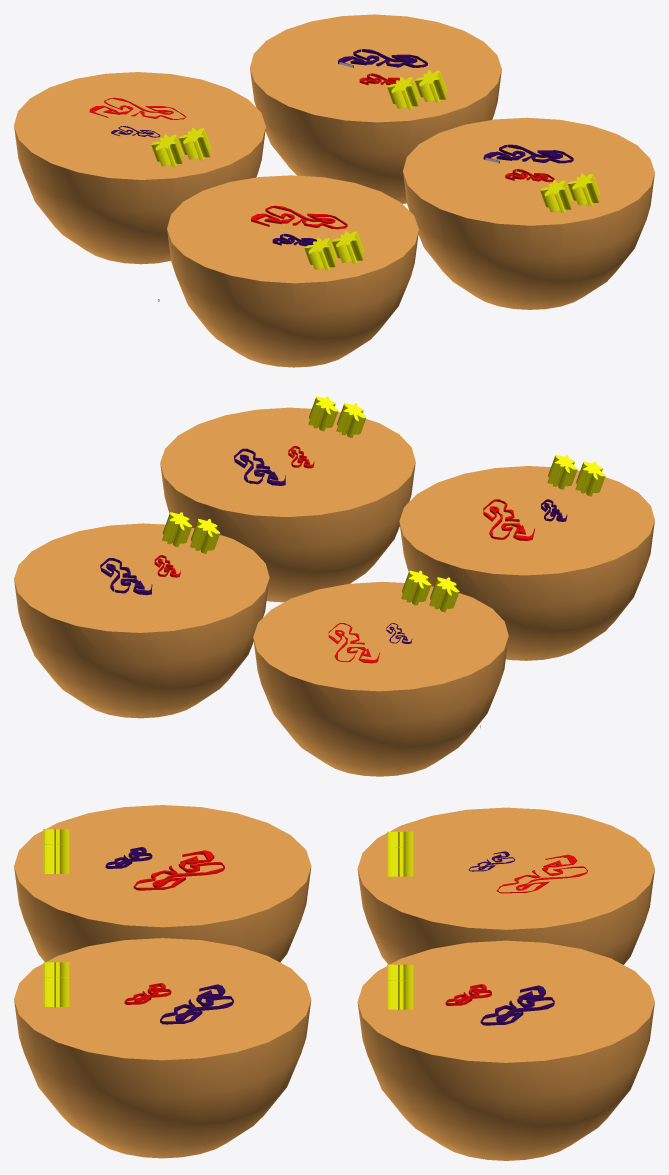
The model's file is sample-phaze.fbx.
The picture shows the model from 3 angles, top to bottom: view 1: azimuth 30°, elevation 25°; view 2: azimuth 150°, elevation 25°; view 3: azimuth 270°, elevation 25°; orthographic projection. The views are drawn at different scales.
Visible parts, largest first — view 1: Group20, Group13, Group4, Group8, Group15, Group6, Group18, Group5, Group11, Group19, Group1, Group9 (+4 smaller); view 2: Group4, Group8, Group20, Group13, Group15, Group6, Group1, Group16, Group3, Group17, Group11, Group5 (+4 smaller); view 3: Group8, Group13, Group4, Group20, Group15, Group6, Group18, Group2, Group17, Group3, Group5, Group19.
Part boxes in pixels (x1,y1,x2,y2): Group20: [167, 175, 418, 367]; Group13: [403, 117, 654, 309]; Group4: [14, 72, 265, 264]; Group8: [250, 14, 501, 203]; Group15: [251, 205, 347, 229]; Group6: [338, 49, 427, 67]; Group18: [483, 144, 573, 163]; Group5: [179, 127, 211, 160]; Group11: [540, 180, 572, 212]; Group19: [332, 231, 364, 263]; Group1: [151, 134, 183, 167]; Group9: [387, 76, 419, 109]; Group4: [253, 581, 508, 776]; Group8: [14, 523, 269, 718]; Group20: [399, 466, 654, 660]; Group13: [160, 407, 415, 602]; Group15: [483, 499, 534, 540]; Group6: [100, 558, 152, 595]; Group1: [429, 577, 459, 612]; Group16: [575, 461, 605, 496]; Group3: [162, 512, 192, 546]; Group17: [308, 396, 338, 431]; Group11: [336, 403, 366, 437]; Group5: [401, 570, 431, 605]; Group8: [357, 940, 654, 1160]; Group13: [14, 938, 311, 1158]; Group4: [357, 807, 654, 964]; Group20: [14, 805, 311, 962]; Group15: [133, 850, 224, 890]; Group6: [480, 985, 554, 1025]; Group18: [160, 984, 233, 1024]; Group2: [496, 854, 587, 893]; Group17: [43, 977, 69, 1007]; Group3: [387, 980, 413, 1009]; Group5: [387, 847, 413, 876]; Group19: [43, 844, 69, 873].
Bounding box in the file's own units: 194809 × 65131 × 204668.
